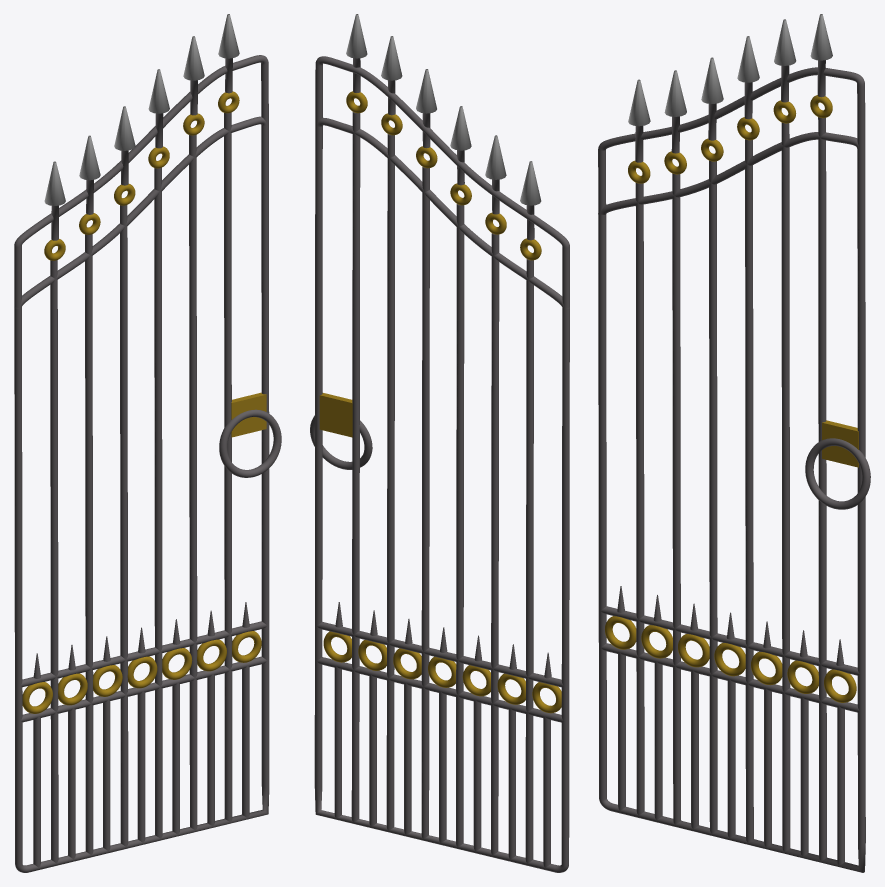
Rendered from Door_L.fbx.
The picture shows the model from 3 angles, left to right: view 1: azimuth 30°, elevation 25°; view 2: azimuth 150°, elevation 25°; view 3: azimuth 330°, elevation 25°; orthographic projection. The views are drawn at different scales.
Parts seen in each view (by area): view 1: Door_L; view 2: Door_L; view 3: Door_L.
Boxes of the visible parts, <box> form: Door_L: <box>14,14,281,872</box>; Door_L: <box>310,14,569,872</box>; Door_L: <box>598,14,870,872</box>.
Size of the model in its own units: 0.7997 by 0.0662 by 2.36.
